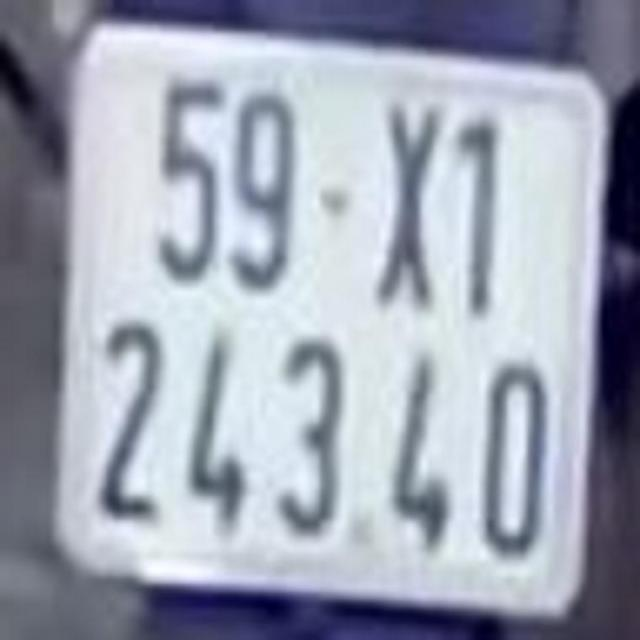0: (481, 352, 546, 557)
1: (454, 108, 500, 320)
2: (97, 320, 165, 514)
3: (276, 333, 343, 532)
4: (390, 346, 454, 552), (192, 324, 246, 530)
5: (153, 80, 224, 276)
9: (234, 90, 298, 295)
X: (378, 99, 442, 303)
